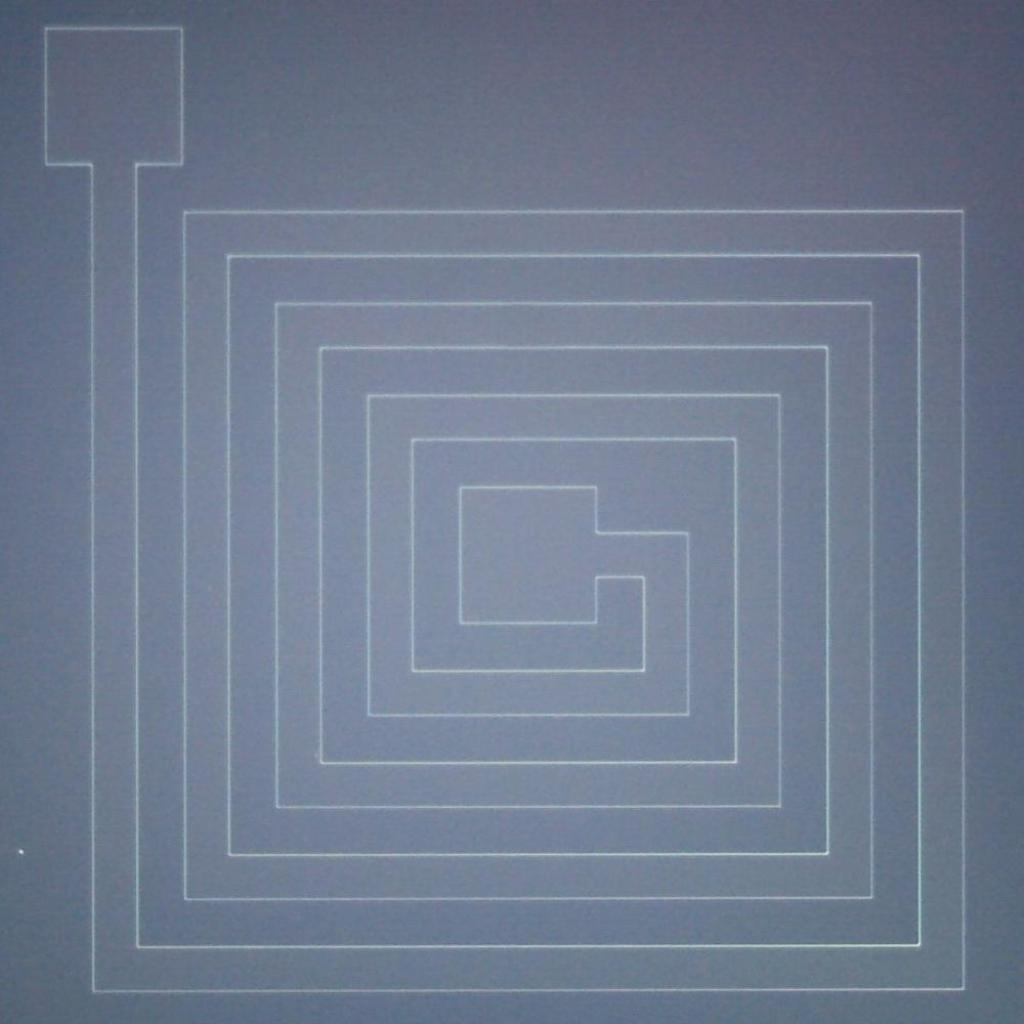dot: (19, 849, 24, 855)
